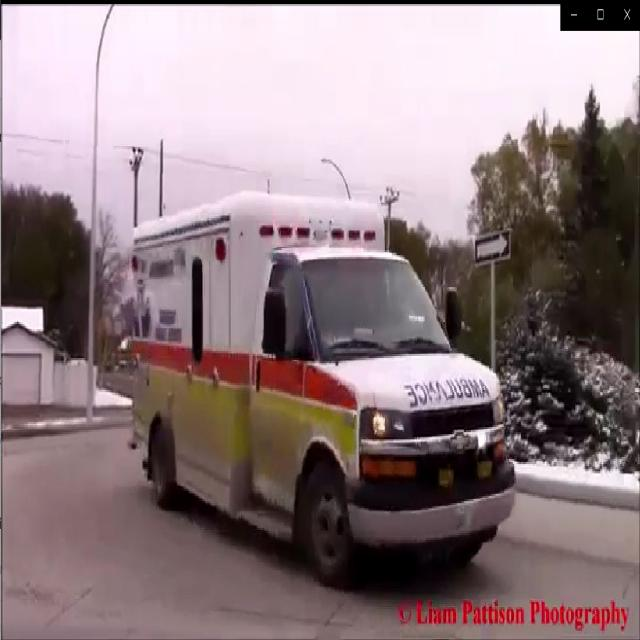emergency: (126, 184, 518, 596)
